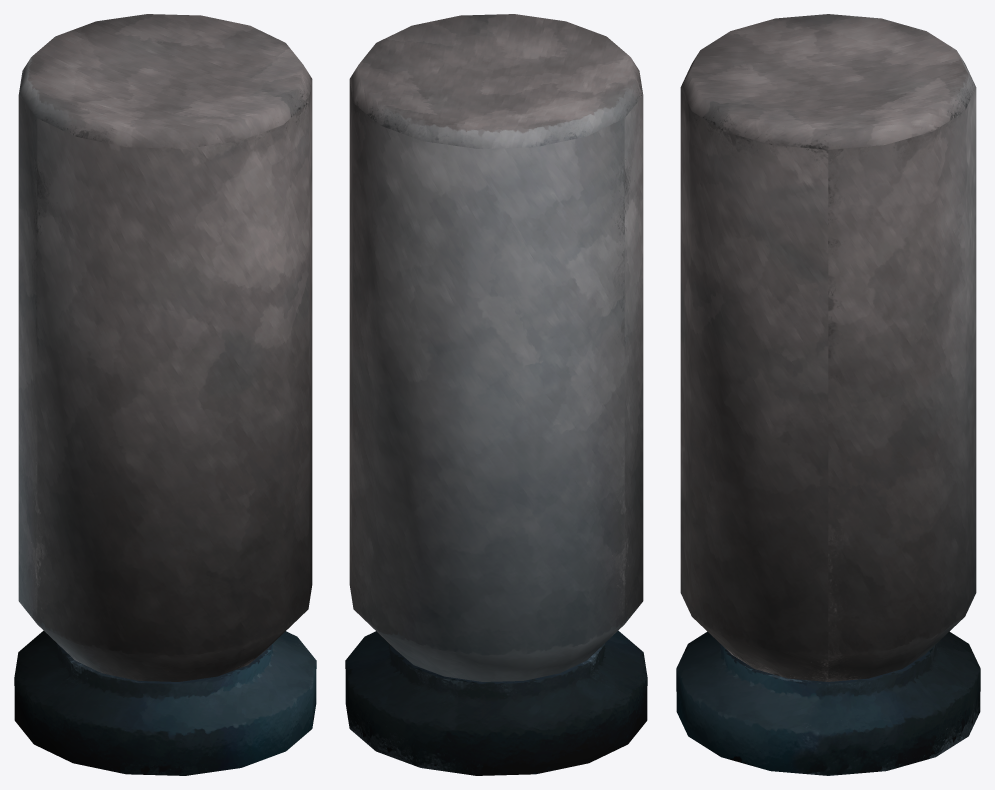
The model's file is GlowSocket.glb.
The picture shows the model from 3 angles, left to right: view 1: azimuth 30°, elevation 25°; view 2: azimuth 150°, elevation 25°; view 3: azimuth 270°, elevation 25°; orthographic projection.
Visible parts, largest first — view 1: GlowingSocket; view 2: GlowingSocket; view 3: GlowingSocket.
Boxes of the visible parts, left/top/right/bottom form: GlowingSocket: left=14, top=14, right=316, bottom=775; GlowingSocket: left=345, top=14, right=647, bottom=775; GlowingSocket: left=676, top=14, right=980, bottom=775.
Size of the model in its own units: 2.06 by 4.77 by 2.06.
Materials: 1 (1 with a texture image).
